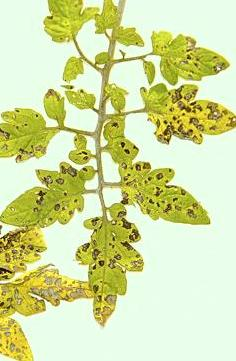Tomato Septoria leaf spot: (0, 255, 107, 361), (76, 199, 150, 343), (0, 154, 95, 250), (114, 156, 220, 227), (0, 88, 77, 183), (136, 82, 236, 148), (146, 23, 236, 88), (36, 0, 101, 57), (0, 228, 51, 292)
